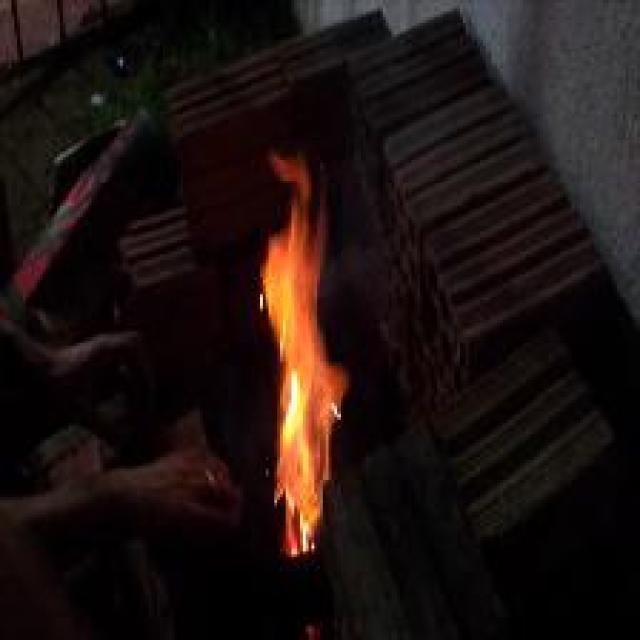smoke: (257, 142, 352, 558)
